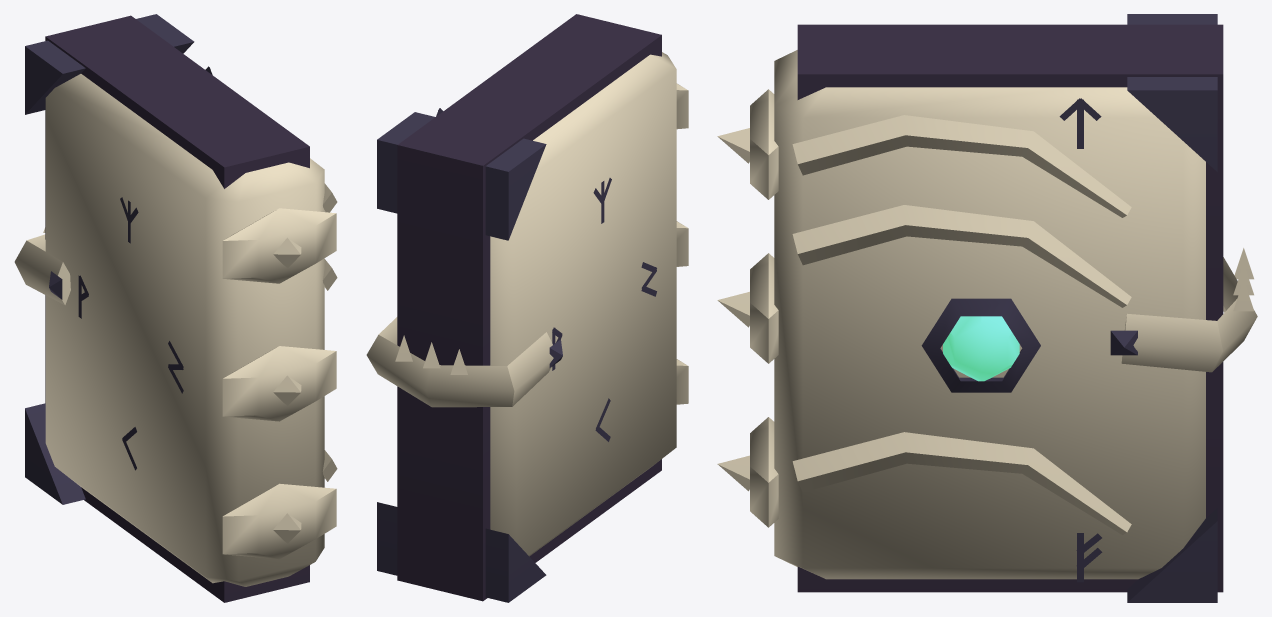
File: bone-tome-3.glb
3 views of the same model, side by side, from view 1: azimuth 30°, elevation 25°; view 2: azimuth 150°, elevation 25°; view 3: azimuth 270°, elevation 25° (orthographic). The views are drawn at different scales.
Parts seen in each view (by area): view 1: bone-tome-3; view 2: bone-tome-3; view 3: bone-tome-3.
Part boxes in pixels (box(x1,y1,x2,y2)): bone-tome-3: box(14, 14, 337, 602); bone-tome-3: box(366, 14, 688, 602); bone-tome-3: box(717, 14, 1257, 602).
Size of the model in its own units: 0.0764 by 0.196 by 0.1854.
